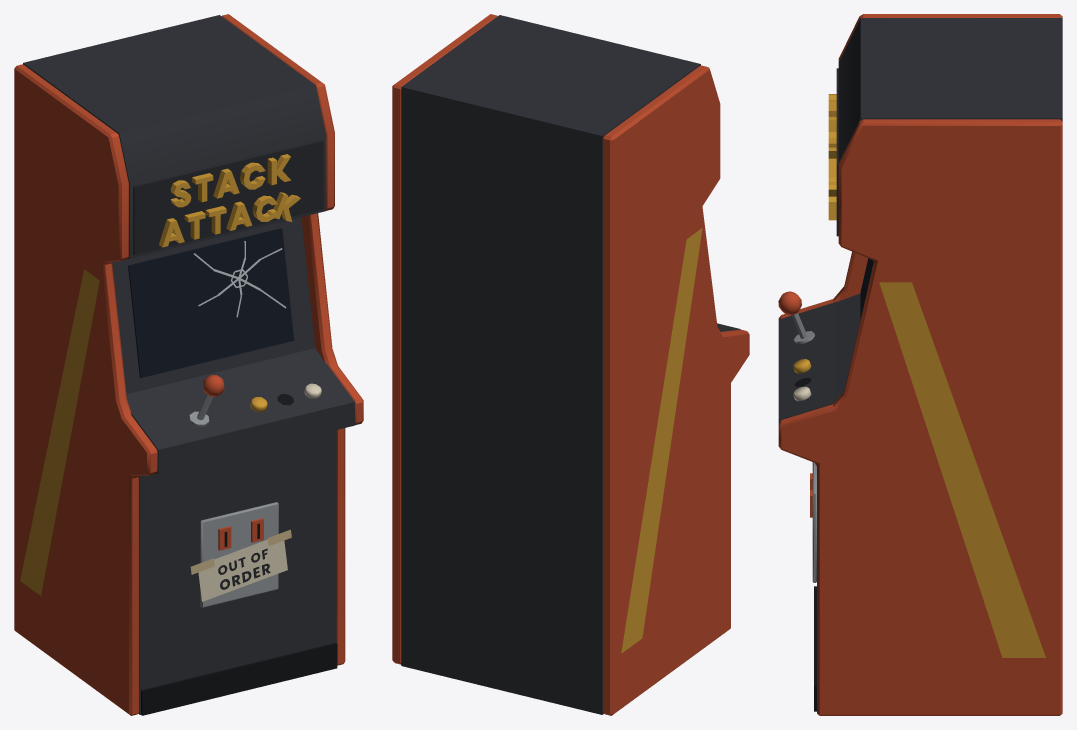
The model's file is Basement_OldArcade.fbx.
3 renders of one model, left to right at view 1: azimuth 30°, elevation 25°; view 2: azimuth 150°, elevation 25°; view 3: azimuth 270°, elevation 25°, orthographic. The views are drawn at different scales.
Parts seen in each view (by area): view 1: Body, SidePanels, Screen, MarqueePanel, SideStripe, Dark, MarqueeLetters, CoinDoor, Note, Cracks, NoteInk; view 2: Body, SidePanels, SideStripe; view 3: SidePanels, Body, SideStripe, MarqueeLetters, CoinDoor, MarqueePanel, Dark.
Part boxes in pixels (left/top/right/bottom): Body: left=23, top=15, right=354, bottom=714; SidePanels: left=14, top=14, right=363, bottom=715; Screen: left=128, top=228, right=294, bottom=377; MarqueePanel: left=133, top=140, right=323, bottom=254; SideStripe: left=20, top=269, right=99, bottom=595; Dark: left=141, top=394, right=337, bottom=715; MarqueeLetters: left=159, top=154, right=300, bottom=247; CoinDoor: left=200, top=502, right=278, bottom=607; Note: left=198, top=539, right=287, bottom=601; Cracks: left=193, top=241, right=286, bottom=317; NoteInk: left=218, top=548, right=270, bottom=589; Body: left=401, top=15, right=740, bottom=714; SidePanels: left=392, top=14, right=749, bottom=715; SideStripe: left=621, top=228, right=702, bottom=653; SidePanels: left=778, top=14, right=1062, bottom=715; Body: left=778, top=18, right=1062, bottom=422; SideStripe: left=879, top=282, right=1045, bottom=657; MarqueeLetters: left=828, top=94, right=836, bottom=220; CoinDoor: left=812, top=462, right=816, bottom=582; MarqueePanel: left=836, top=68, right=838, bottom=236; Dark: left=794, top=377, right=816, bottom=711.
Size of the model in its own units: 242 by 600 by 260.
